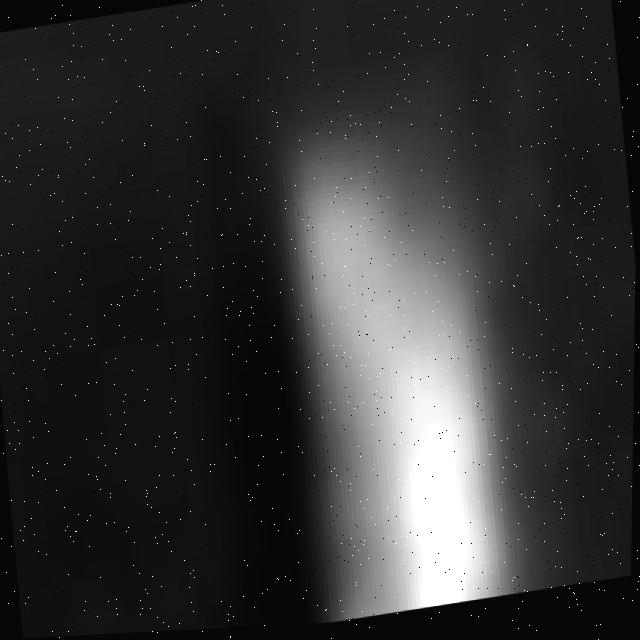person: (201, 54, 560, 633)
